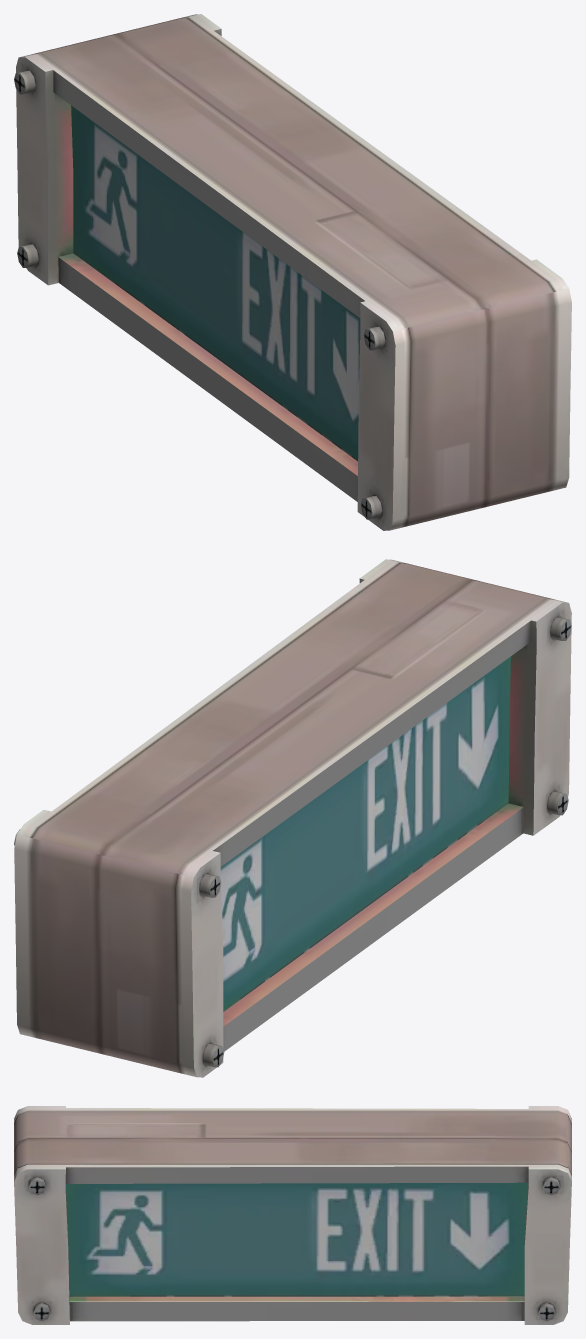
3 renders of one model, top to bottom at view 1: azimuth 30°, elevation 25°; view 2: azimuth 150°, elevation 25°; view 3: azimuth 270°, elevation 25°, orthographic. The views are drawn at different scales.
Visible parts, largest first — view 1: body0_model0_lod0_mesh0; view 2: body0_model0_lod0_mesh0; view 3: body0_model0_lod0_mesh0.
Boxes of the visible parts, x1,y1,x2,y2 form: body0_model0_lod0_mesh0: (14,14,571,530); body0_model0_lod0_mesh0: (14,559,571,1077); body0_model0_lod0_mesh0: (14,1106,571,1324).
Size of the model in its own units: 19.28 by 20 by 65.04.
Materials: 1 (1 with a texture image).
